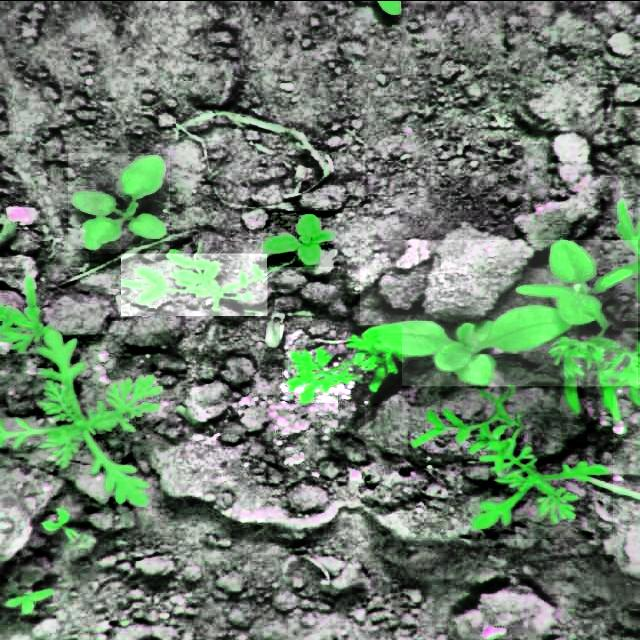Weeds: (360, 239, 638, 385), (68, 152, 170, 248), (263, 210, 335, 266)
undefined: (0, 273, 163, 511), (408, 386, 613, 538), (280, 324, 402, 402), (122, 250, 270, 314)
